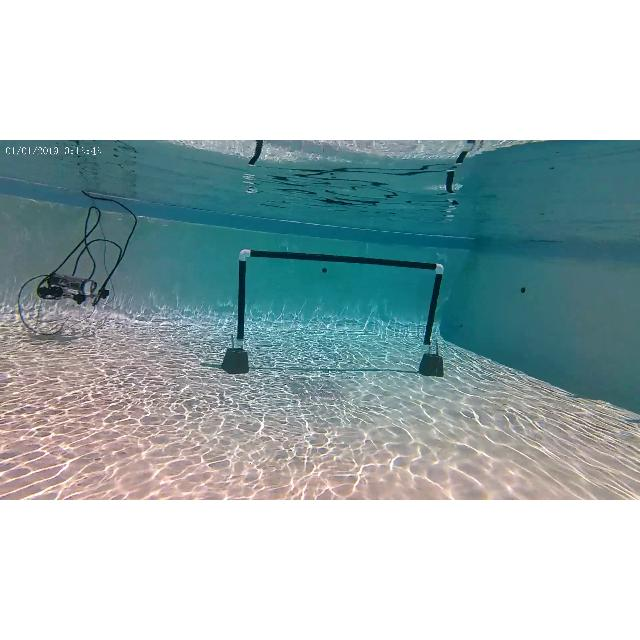prequal gate: (235, 248, 445, 352)
prequal gate leg l: (230, 247, 254, 361)
prequal gate leg r: (423, 253, 447, 361)
